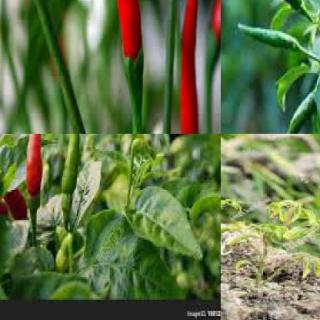green_chilli: (237, 20, 299, 58), (59, 134, 83, 206), (284, 90, 316, 133), (246, 0, 304, 16)
